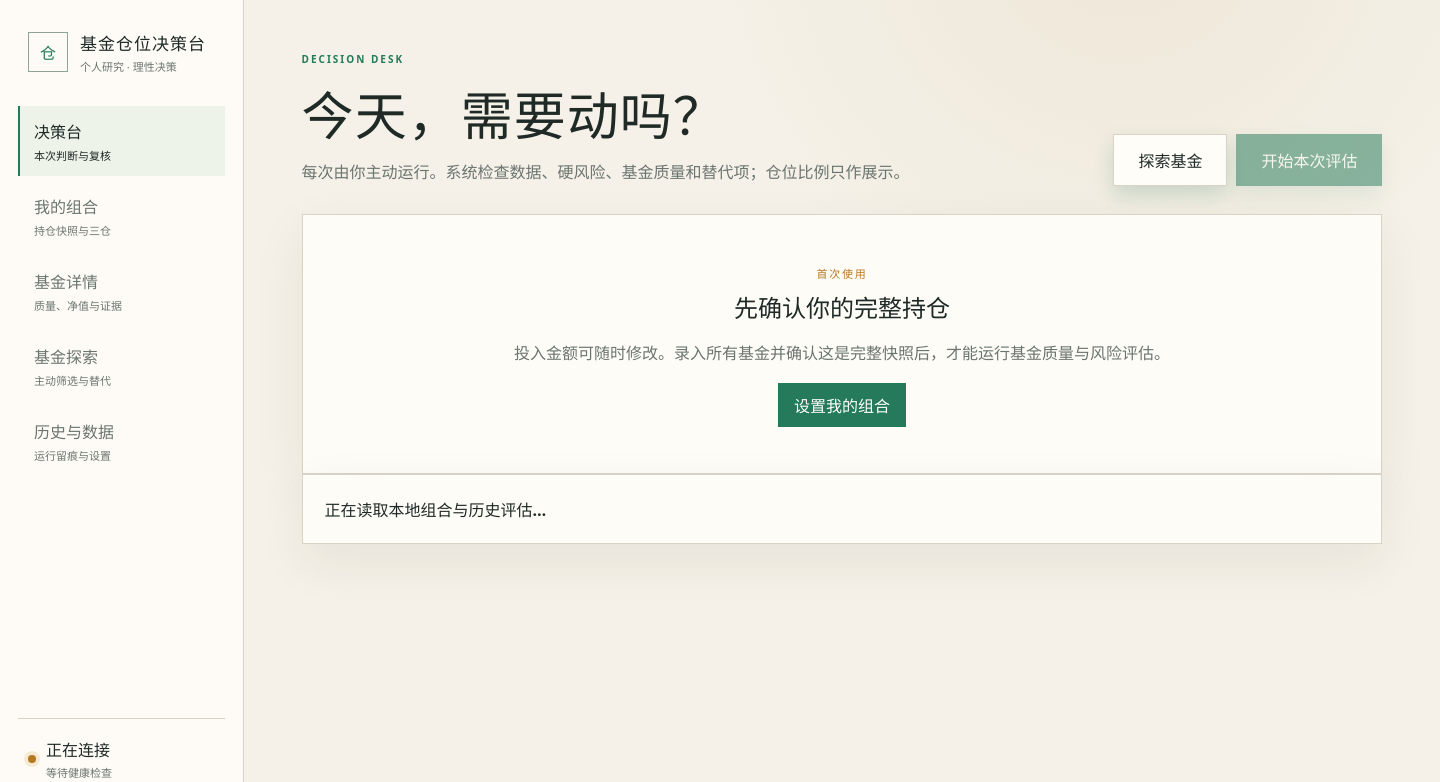
Scenario: 基金仓位决策台 › navigates through the five real product pages
Click the link "我的组合 持仓快照与三仓". click: [72, 217]
box: top-left (34, 196), bottom-right (111, 238)
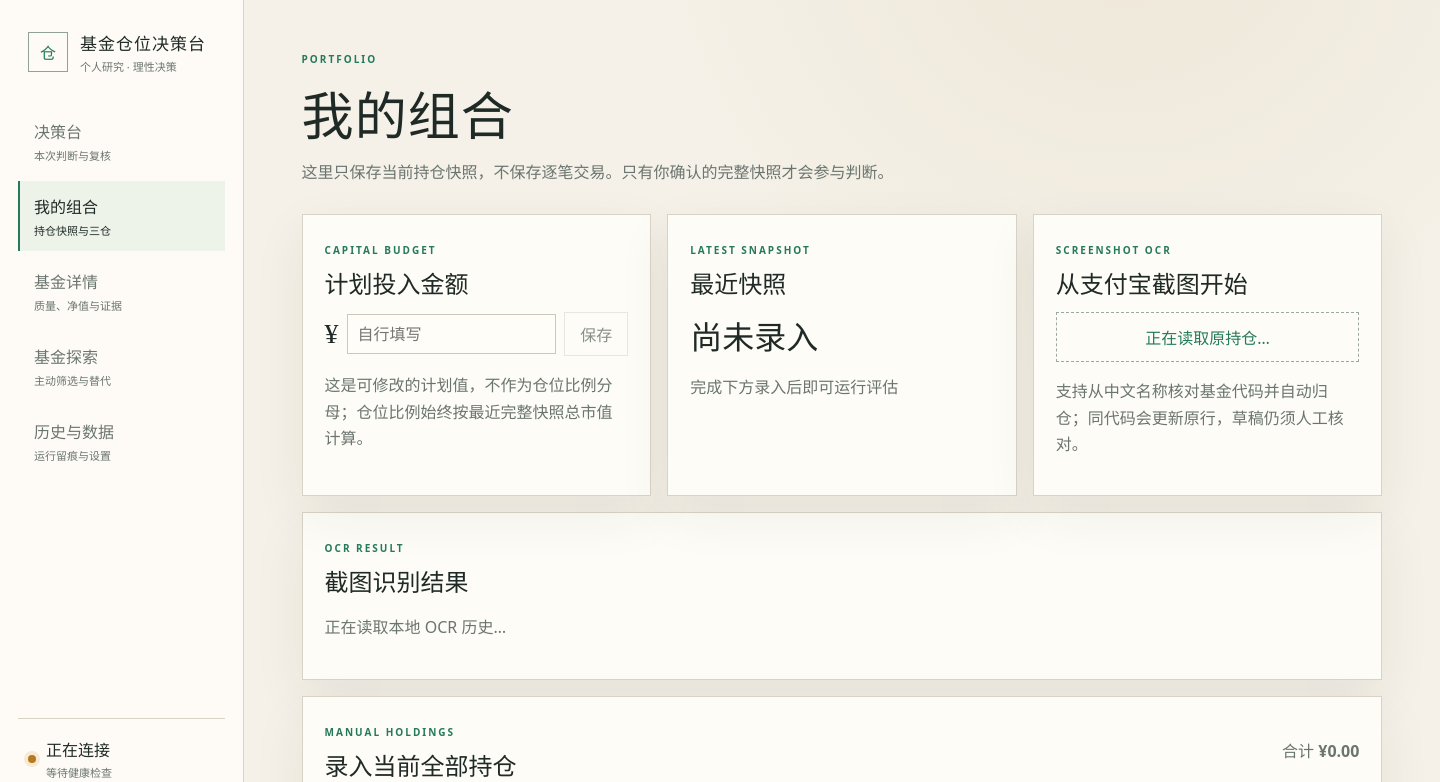
Check: the heading "我的组合" is shown, box top-left (302, 89), bottom-right (514, 146)
Click the link "基金详情 质量、净值与证据". click: [78, 292]
box: top-left (34, 271), bottom-right (122, 313)
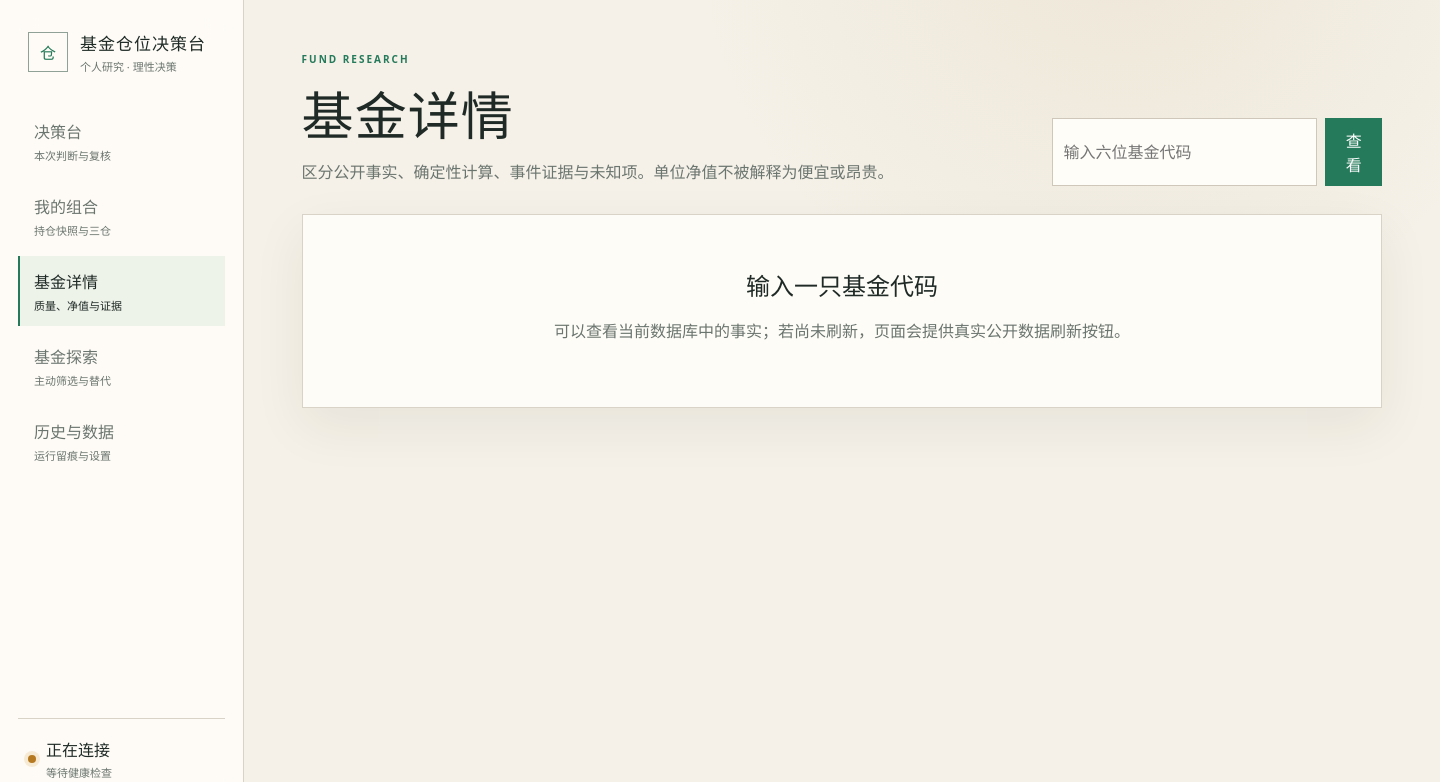
Check: the heading "基金详情" is shown, box top-left (302, 89), bottom-right (514, 146)
Click the link "基金探索 主动筛选与替代". click: [72, 367]
box: top-left (34, 346), bottom-right (111, 388)
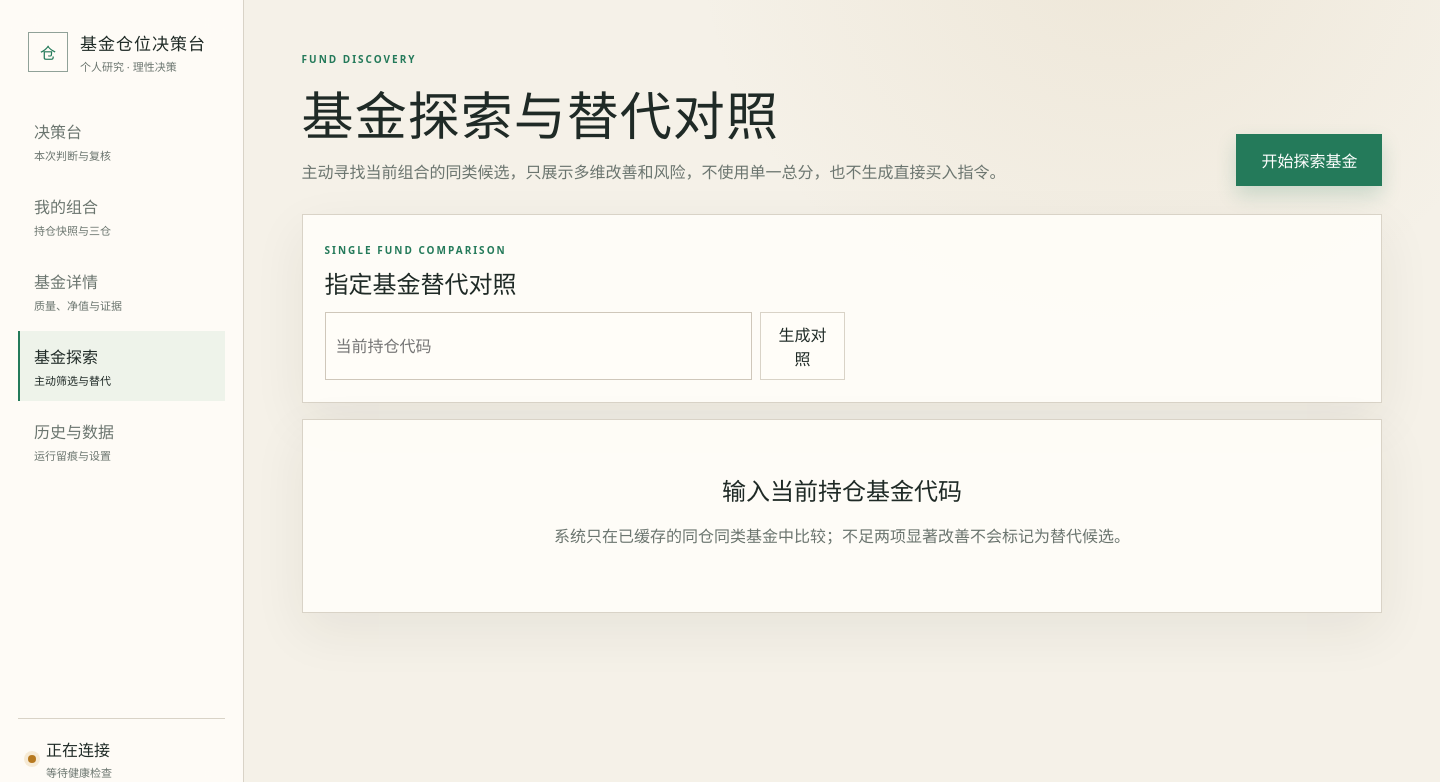
Check: the heading "基金探索与替代对照" is shown, box top-left (302, 89), bottom-right (779, 146)
Click the link "历史与数据 运行留痕与设置". click: [74, 442]
box: top-left (34, 421), bottom-right (114, 463)
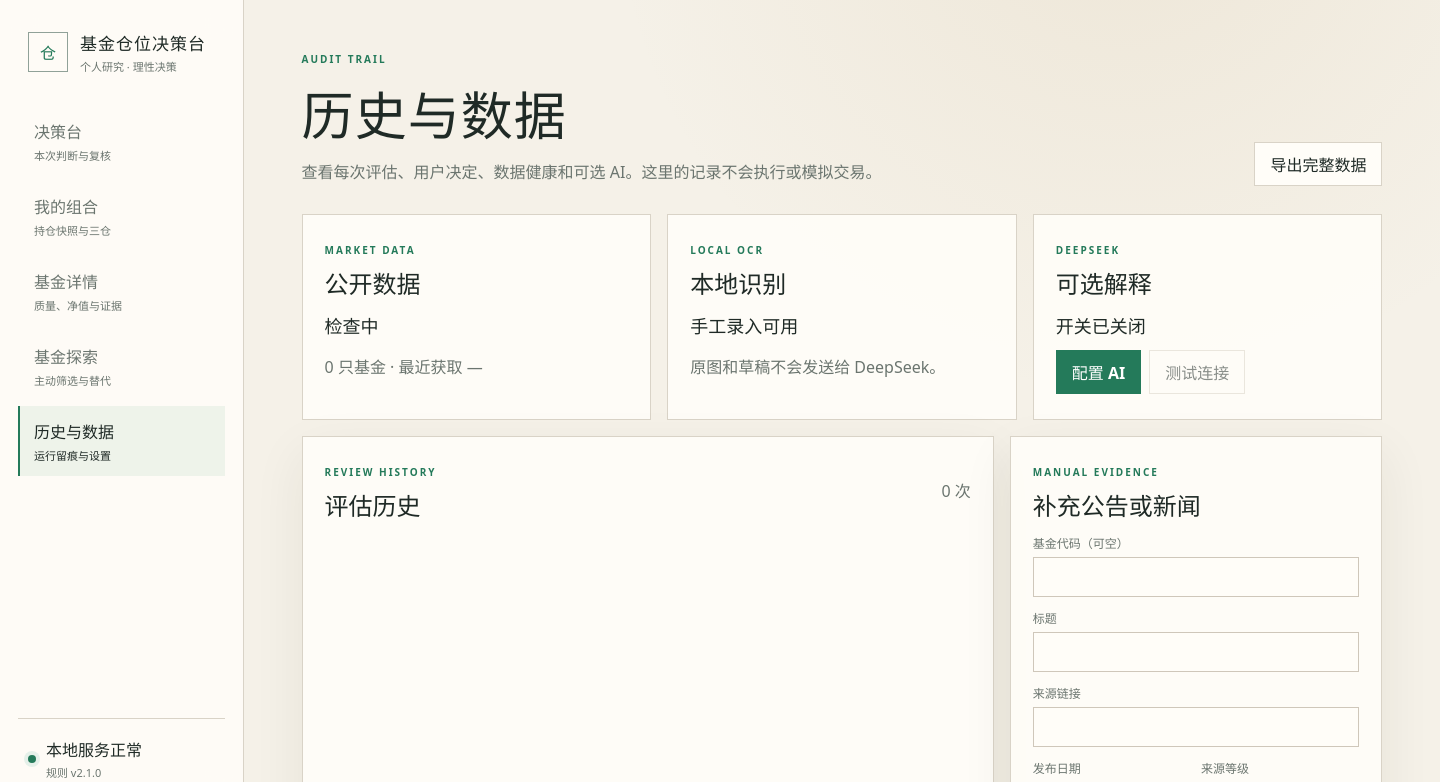
Check: the heading "历史与数据" is shown, box top-left (302, 89), bottom-right (567, 146)
